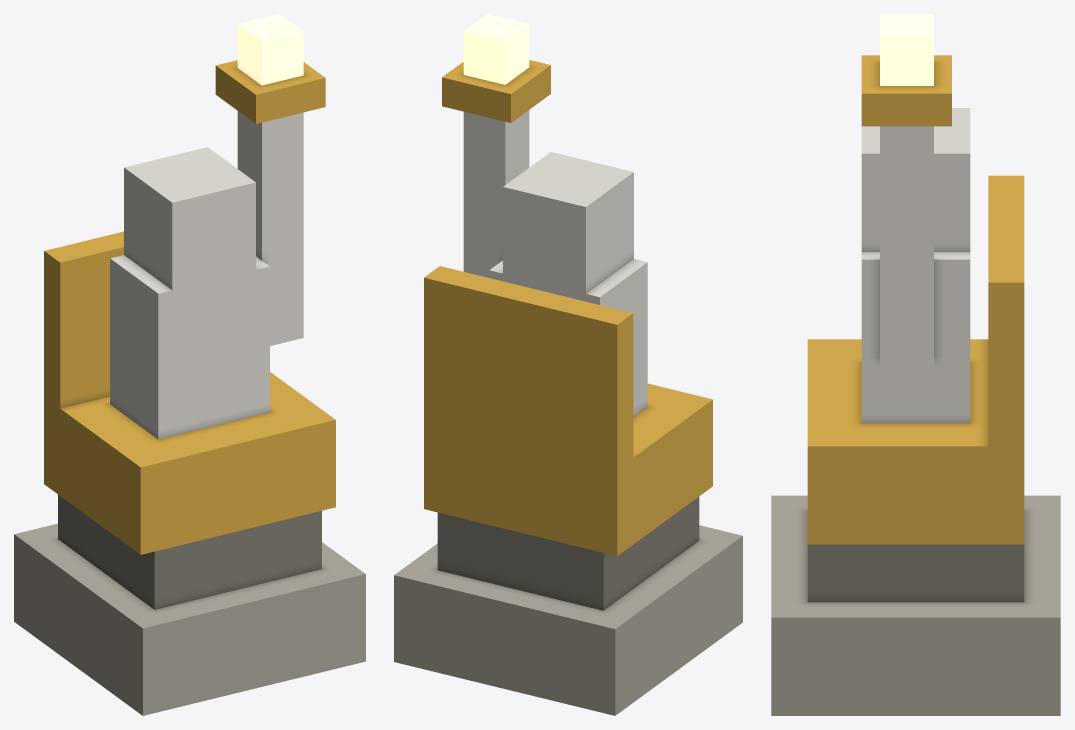
The model's file is w_zeus.glb.
The picture shows the model from 3 angles, left to right: view 1: azimuth 30°, elevation 25°; view 2: azimuth 150°, elevation 25°; view 3: azimuth 270°, elevation 25°; orthographic projection. The views are drawn at different scales.
Visible parts, largest first — view 1: w_zeus_body; view 2: w_zeus_body; view 3: w_zeus_body.
Part boxes in pixels (x1,y1,x2,y2): w_zeus_body: [14, 14, 365, 715]; w_zeus_body: [394, 14, 742, 715]; w_zeus_body: [771, 14, 1060, 715].
Bounding box in the file's own units: 1 × 2.56 × 1.
1 material, 1 textured.
